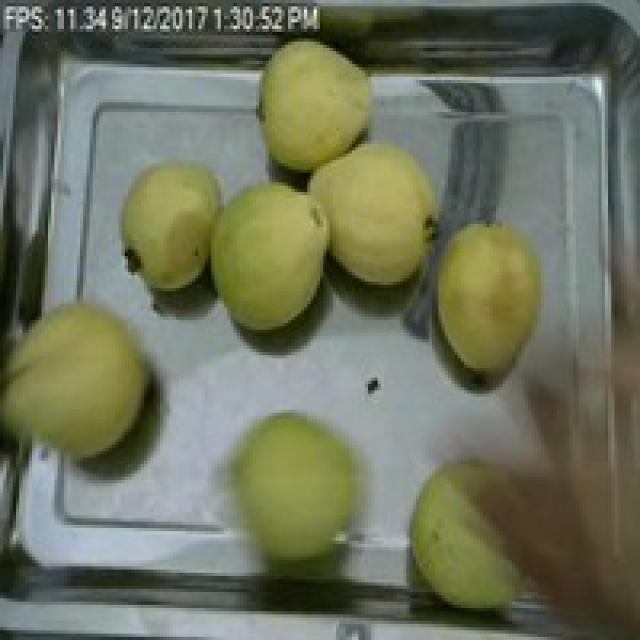Fruit: (397, 438, 640, 637), (0, 288, 166, 480), (205, 400, 387, 573), (409, 205, 566, 390), (301, 125, 454, 298), (202, 163, 339, 339), (246, 26, 388, 186), (112, 150, 240, 301)
